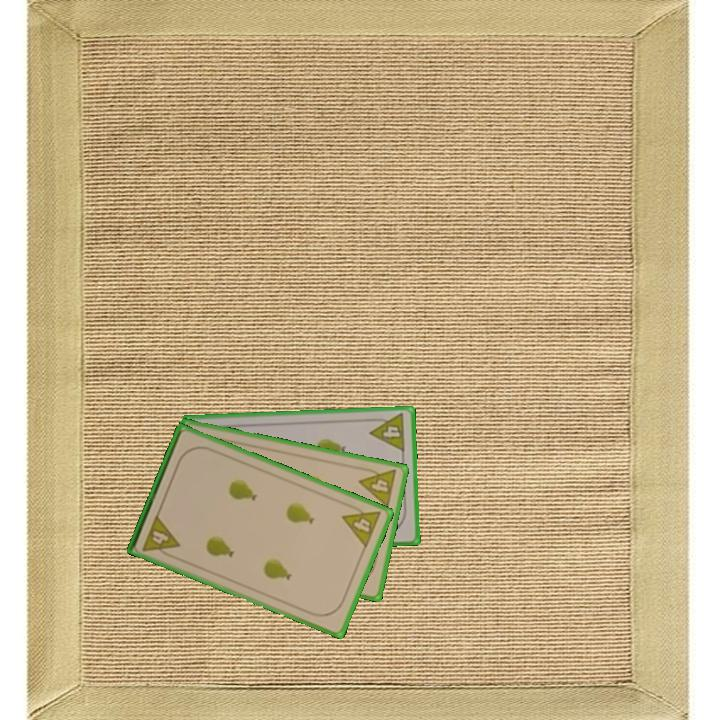4p: (339, 500, 384, 551), (139, 511, 183, 561), (356, 463, 400, 511), (366, 410, 408, 454)
